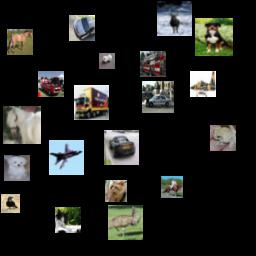airplane: (49, 140, 84, 175), (190, 71, 216, 97)
automobile: (104, 130, 139, 165), (142, 81, 174, 113), (38, 71, 64, 97), (69, 15, 95, 41)
bird: (108, 205, 143, 240), (1, 194, 20, 213)
cat: (55, 207, 81, 233), (105, 180, 127, 202)
deer: (157, 1, 192, 36)
dog: (195, 18, 233, 56), (4, 155, 30, 181), (99, 53, 115, 69)
frog: (210, 125, 236, 151)
truck: (74, 85, 109, 120), (140, 51, 166, 77)
